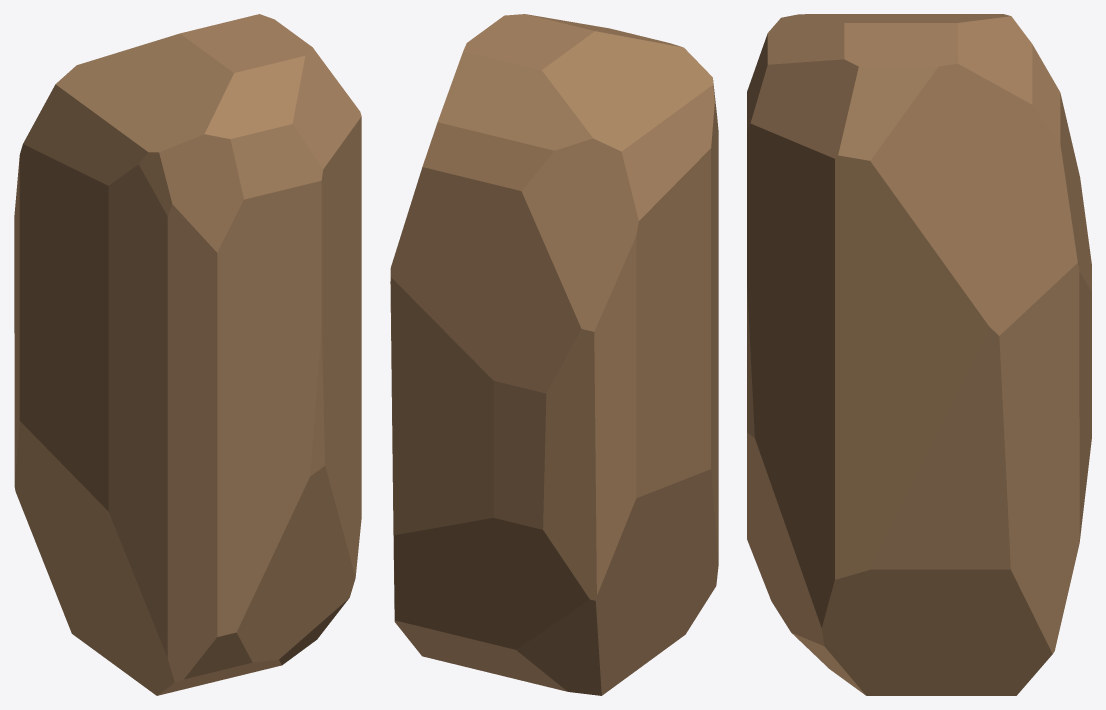
File: rock13.fbx
3 renders of one model, left to right at view 1: azimuth 30°, elevation 25°; view 2: azimuth 150°, elevation 25°; view 3: azimuth 270°, elevation 25°, orthographic. The views are drawn at different scales.
Parts seen in each view (by area): view 1: Rock13; view 2: Rock13; view 3: Rock13.
Boxes of the visible parts, <box> form: Rock13: <box>14,14,361,695</box>; Rock13: <box>390,14,718,695</box>; Rock13: <box>747,14,1091,695</box>.
Bounding box in the file's own units: 1.84 × 4 × 2.
